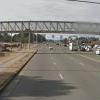Bridge: (2, 10, 97, 51)
